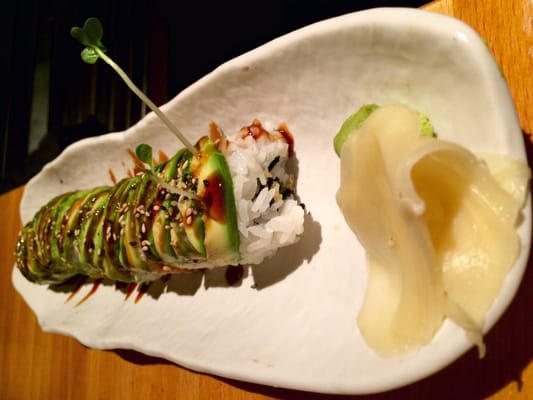soup: (17, 119, 310, 291)
